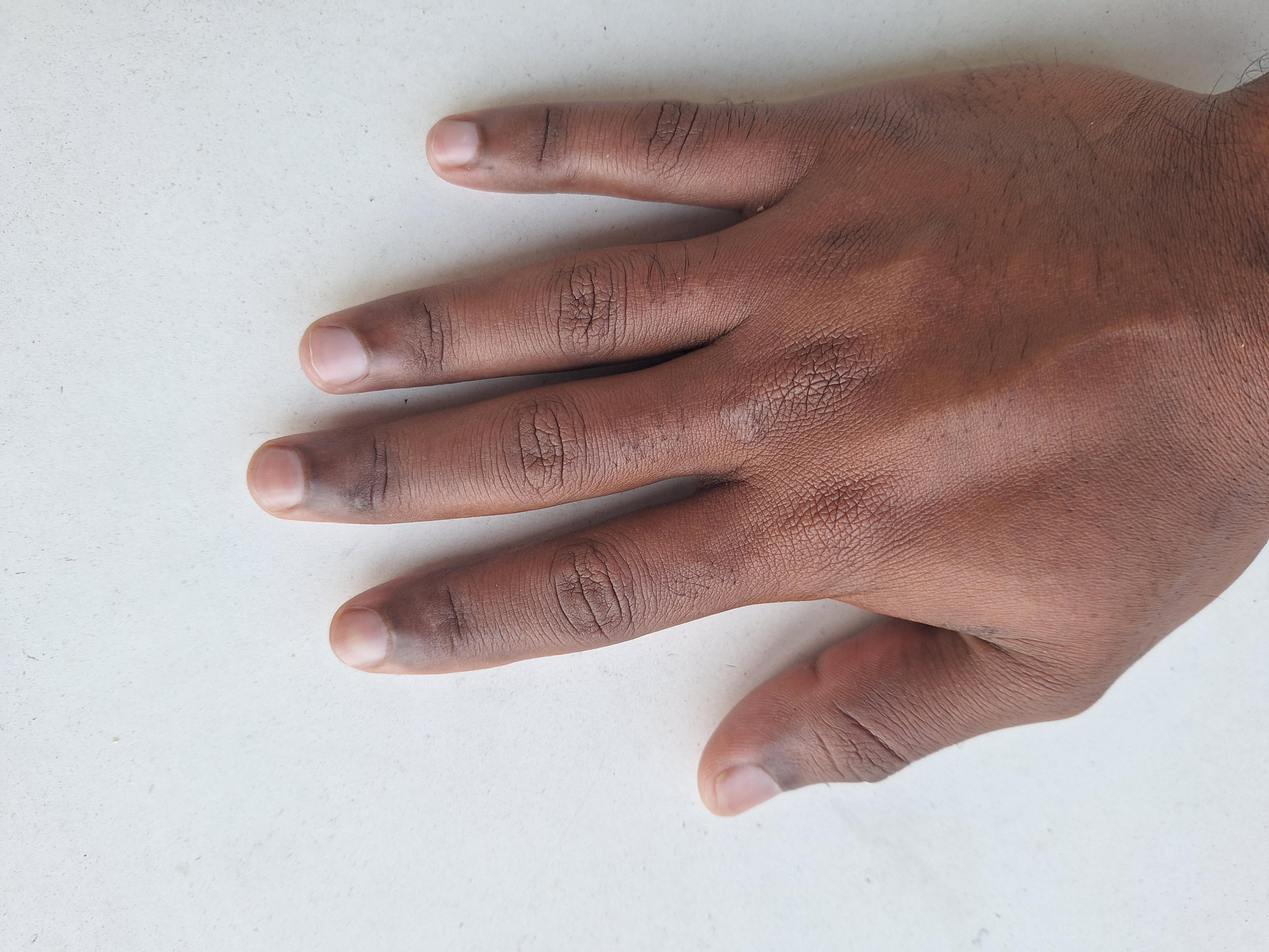Fingernail: (251, 446, 305, 513), (716, 764, 784, 817), (309, 327, 368, 387), (331, 609, 388, 669), (432, 120, 479, 172)
